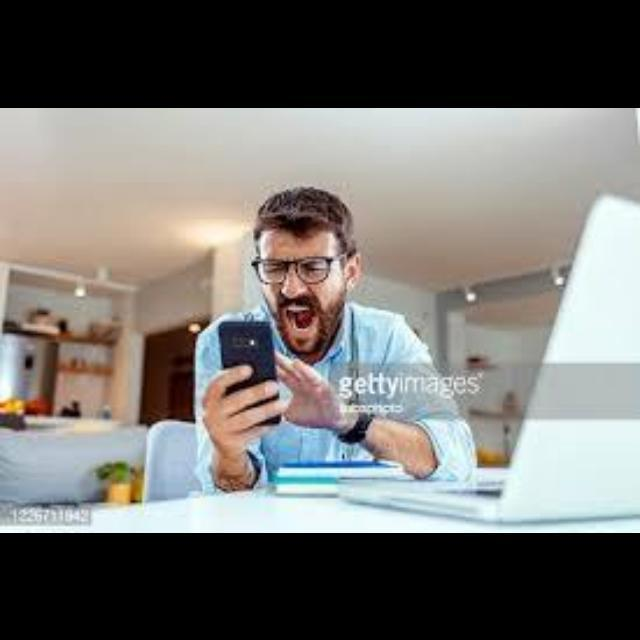PhoneUse: (221, 320, 281, 424)
SafeDriving: (302, 257, 326, 275)
